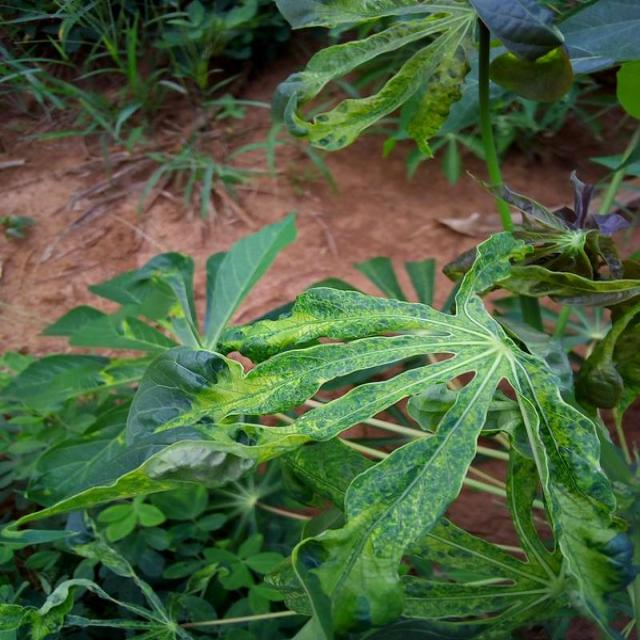cassava leaf: (2, 214, 637, 637)
